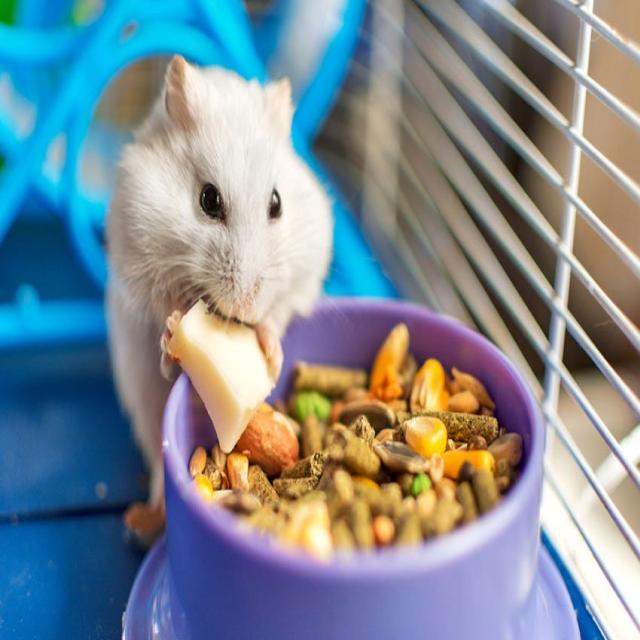hamster: (144, 86, 316, 342)
